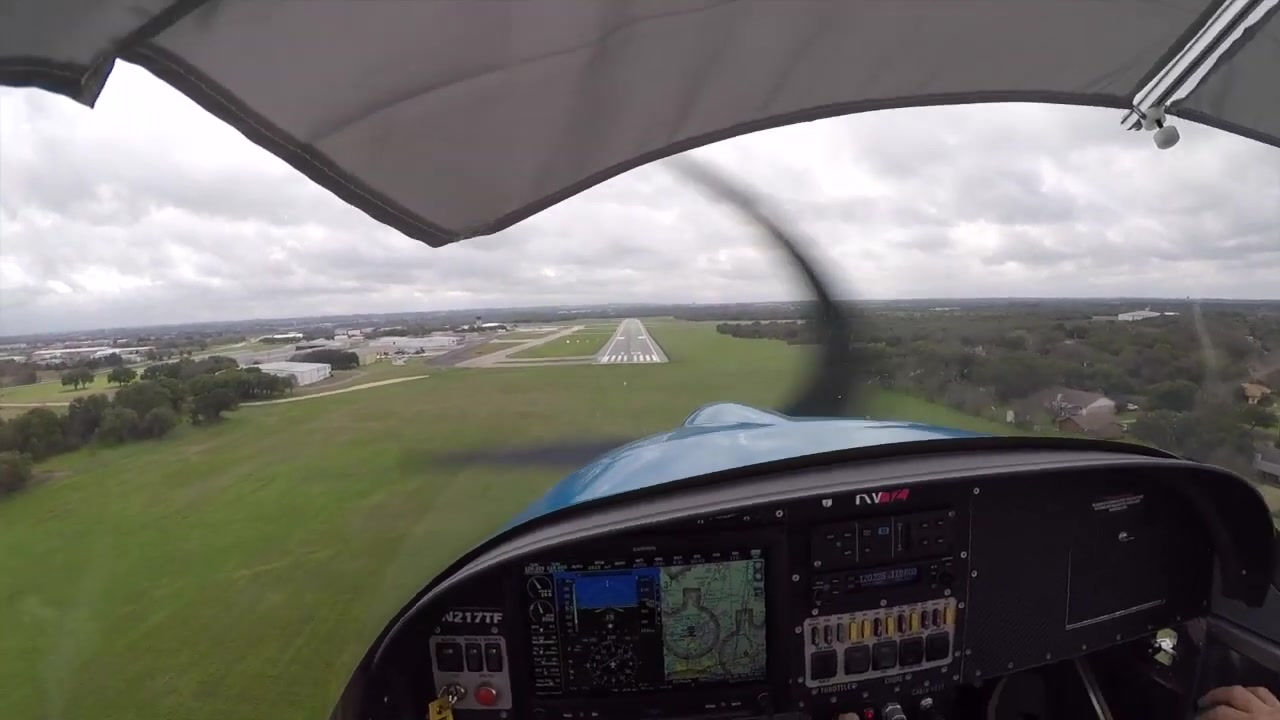entrance: (600, 354, 659, 363)
runway: (593, 316, 669, 367)
